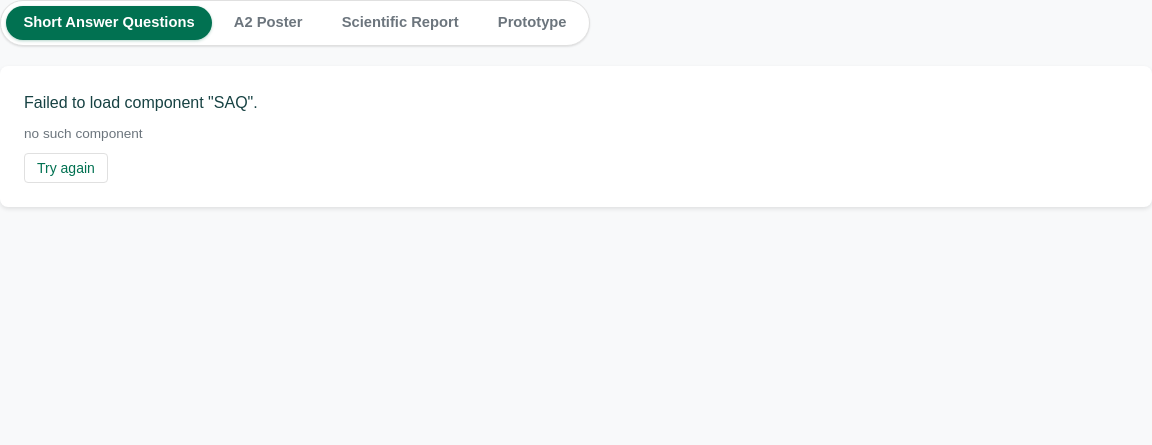
Test: the table › offers a retry when the component fails to load
The image size is (1152, 445).
Click the button "Try again": [66, 168] box [24, 153, 108, 183]
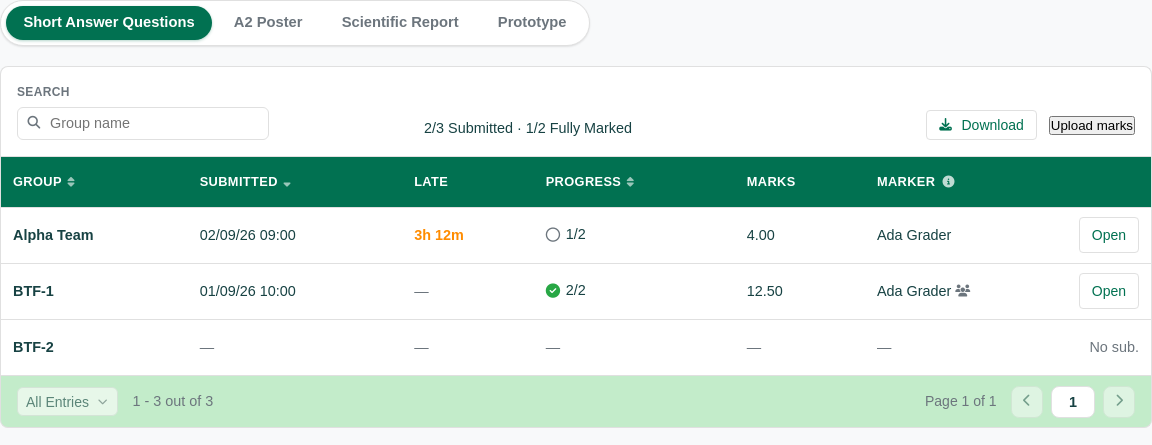
Result: the text "2/3 Submitted · 1/2 Fully Marked" is shown at [424, 117, 632, 140]
